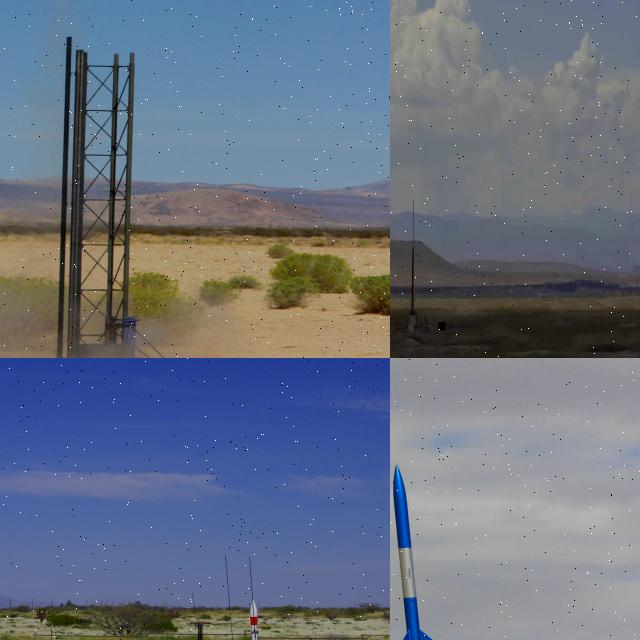Rocket: (391, 464, 439, 640), (241, 600, 268, 640), (409, 244, 416, 308)
